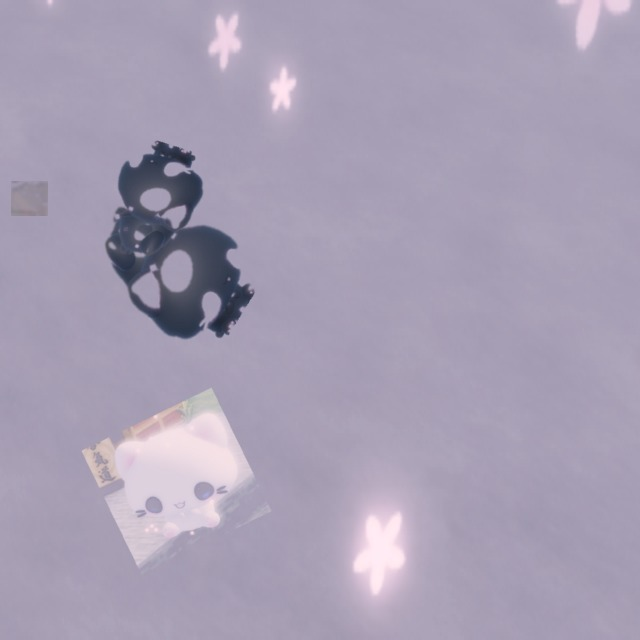urso_branco: (81, 387, 272, 575), (11, 181, 48, 216)
urso_preto: (62, 162, 280, 367), (86, 130, 218, 280)
